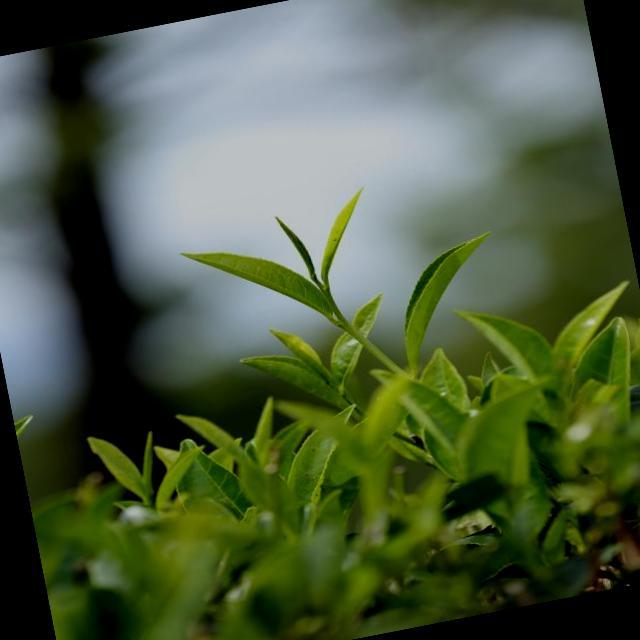Stem: (342, 320, 351, 330)
